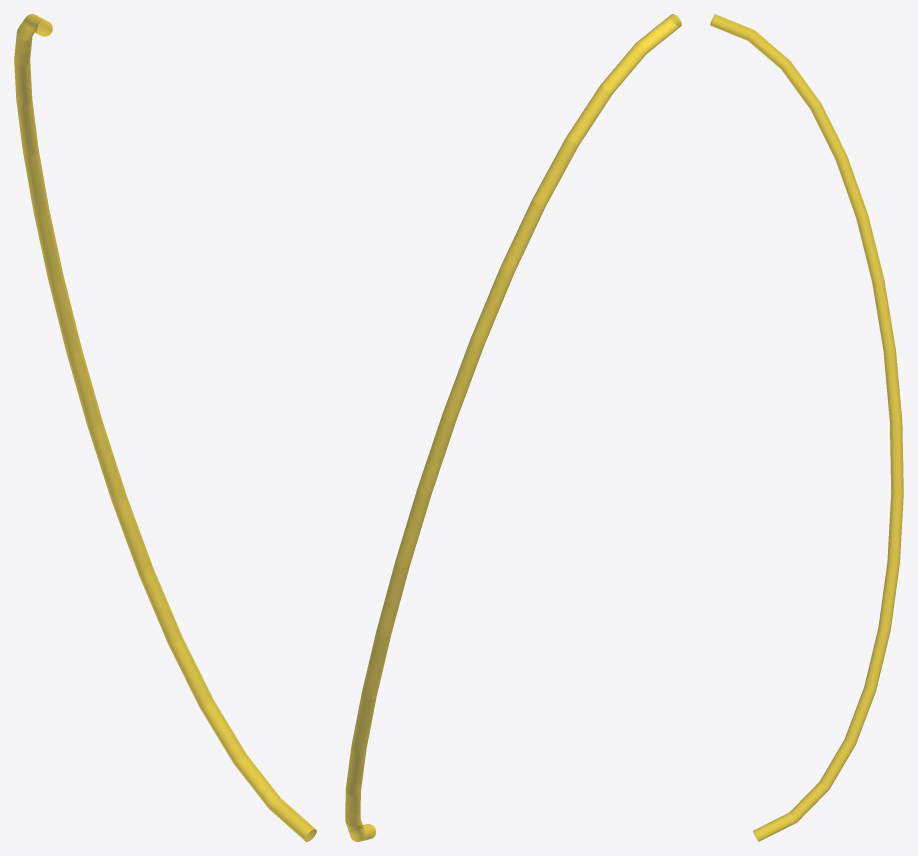
File: Event_17758602_track_69.fbx
3 views of the same model, side by side, from view 1: azimuth 30°, elevation 25°; view 2: azimuth 150°, elevation 25°; view 3: azimuth 270°, elevation 25° (orthographic). The views are drawn at different scales.
Parts seen in each view (by area): view 1: Model; view 2: Model; view 3: Model.
Boxes of the visible parts, x1=… form: Model: x1=14, y1=14, x2=316, y2=841; Model: x1=345, y1=14, x2=681, y2=841; Model: x1=710, y1=14, x2=903, y2=841.
Bounding box in the file's own units: 0.8798 × 2.5 × 0.6131.
